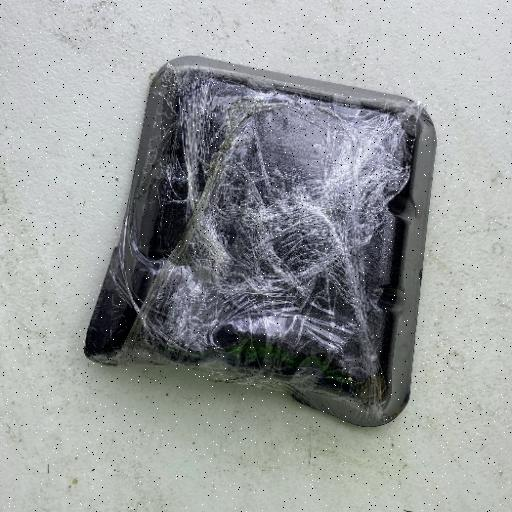Plastic: (82, 55, 438, 427)
